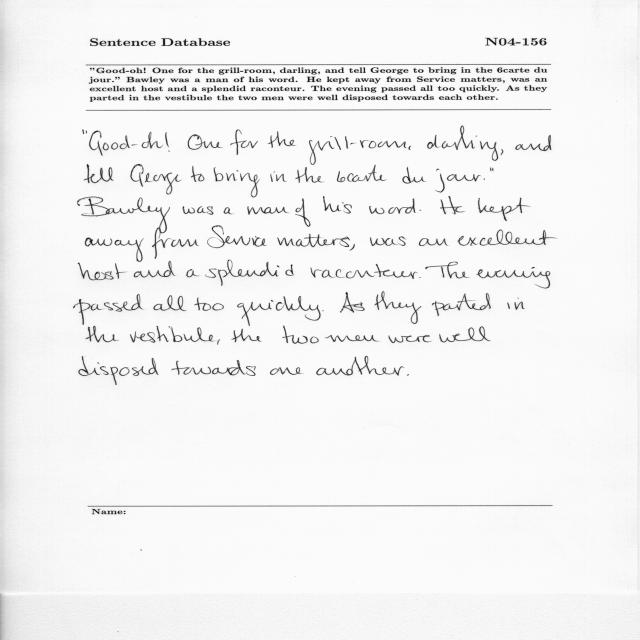word: (78, 197, 172, 240), (309, 136, 407, 165), (237, 296, 321, 326), (427, 126, 498, 161), (79, 356, 159, 385), (205, 260, 294, 286), (74, 294, 144, 325), (86, 131, 163, 156), (130, 326, 220, 345), (458, 229, 557, 246), (316, 356, 404, 375), (130, 164, 182, 195), (311, 264, 418, 279), (477, 267, 551, 288), (375, 292, 422, 324), (86, 237, 144, 262), (432, 293, 491, 316), (214, 168, 259, 198), (172, 360, 256, 376), (207, 226, 267, 248), (478, 198, 530, 221), (435, 169, 481, 193), (277, 234, 350, 247), (152, 239, 199, 259), (337, 165, 386, 182), (439, 327, 491, 343), (78, 263, 126, 280), (425, 262, 470, 279), (369, 198, 416, 214), (230, 129, 258, 155), (134, 261, 176, 278), (282, 326, 319, 344), (516, 135, 552, 151), (188, 134, 223, 150), (84, 164, 113, 183), (153, 295, 187, 311), (340, 292, 365, 313), (86, 326, 118, 342), (323, 197, 352, 214), (268, 131, 296, 148), (295, 167, 324, 183), (295, 198, 311, 227), (440, 197, 465, 215), (402, 167, 426, 184), (194, 298, 224, 311), (232, 329, 262, 342), (247, 206, 289, 215), (325, 335, 379, 342), (370, 236, 406, 246), (389, 335, 432, 343), (183, 206, 214, 215), (270, 367, 303, 375), (419, 238, 448, 246), (507, 298, 525, 310), (191, 166, 204, 182), (270, 171, 287, 182), (186, 270, 199, 278), (165, 132, 170, 152), (224, 207, 234, 214), (350, 244, 355, 251), (501, 149, 504, 155), (490, 168, 494, 172), (408, 146, 411, 150), (83, 129, 84, 134), (483, 178, 485, 180), (407, 374, 409, 376), (419, 277, 421, 278), (322, 311, 324, 312), (420, 210, 421, 211)
